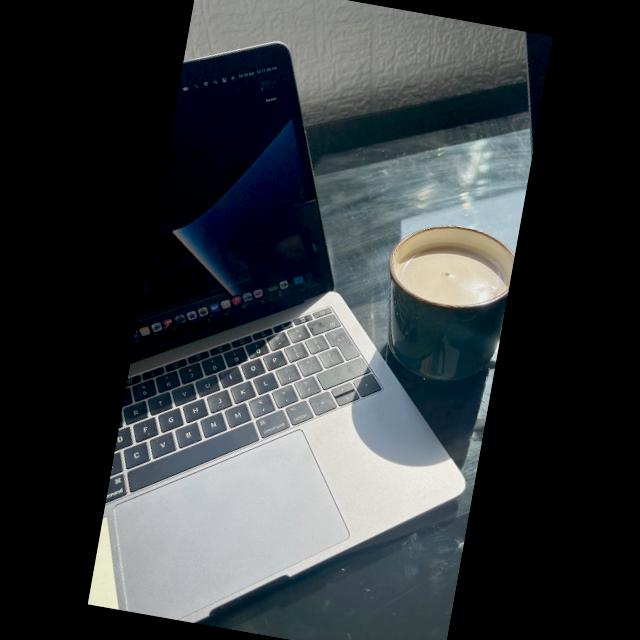laptop: (87, 42, 464, 621)
